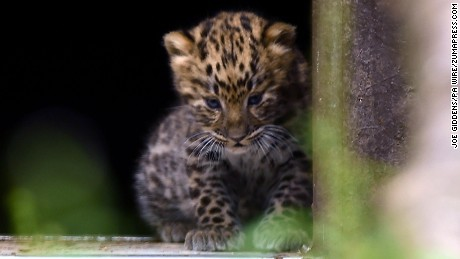amur_leopard: (144, 6, 316, 241)
